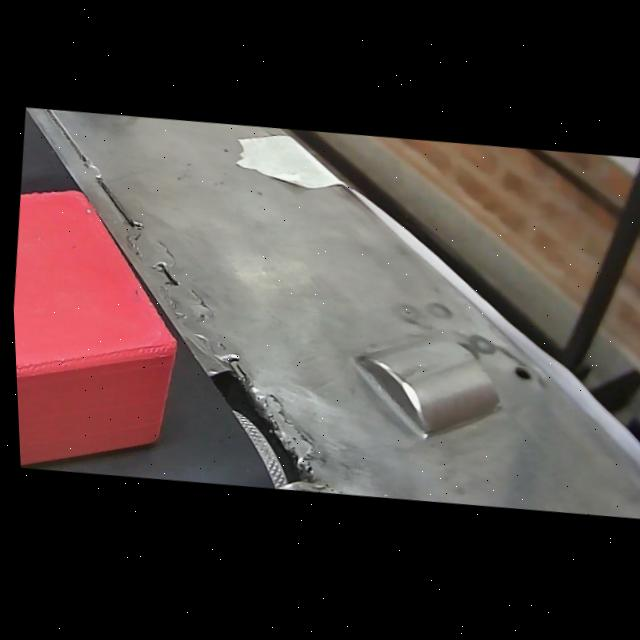redBox: (6, 176, 199, 483)
